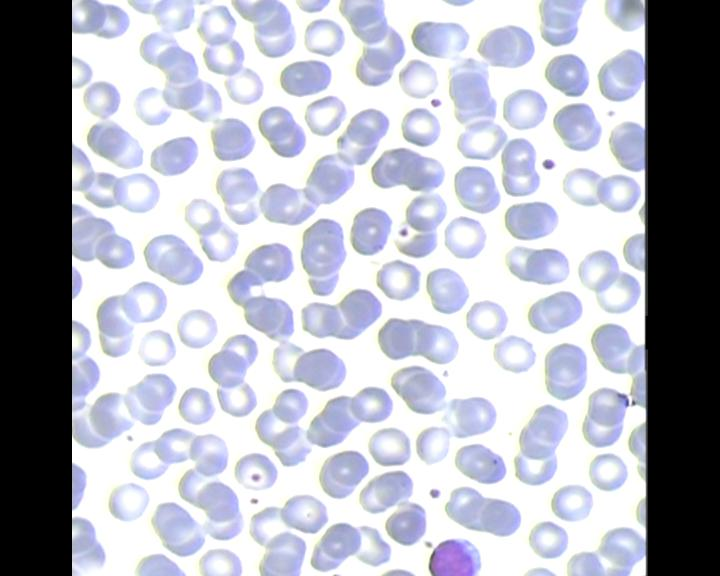lymp: (427, 536, 488, 576)
